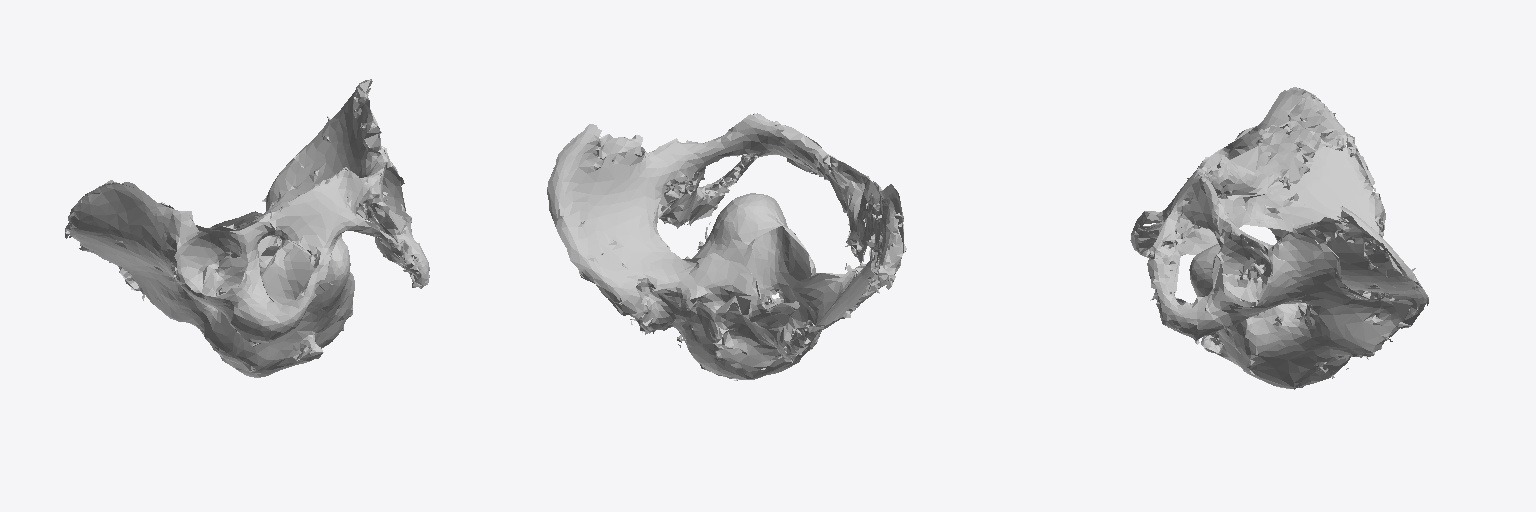
File: pelvis724.obj
3 renders of one model, left to right at view 1: azimuth 30°, elevation 25°; view 2: azimuth 150°, elevation 25°; view 3: azimuth 270°, elevation 25°, orthographic.
Bounding box in the file's own units: 280 × 195 × 223.